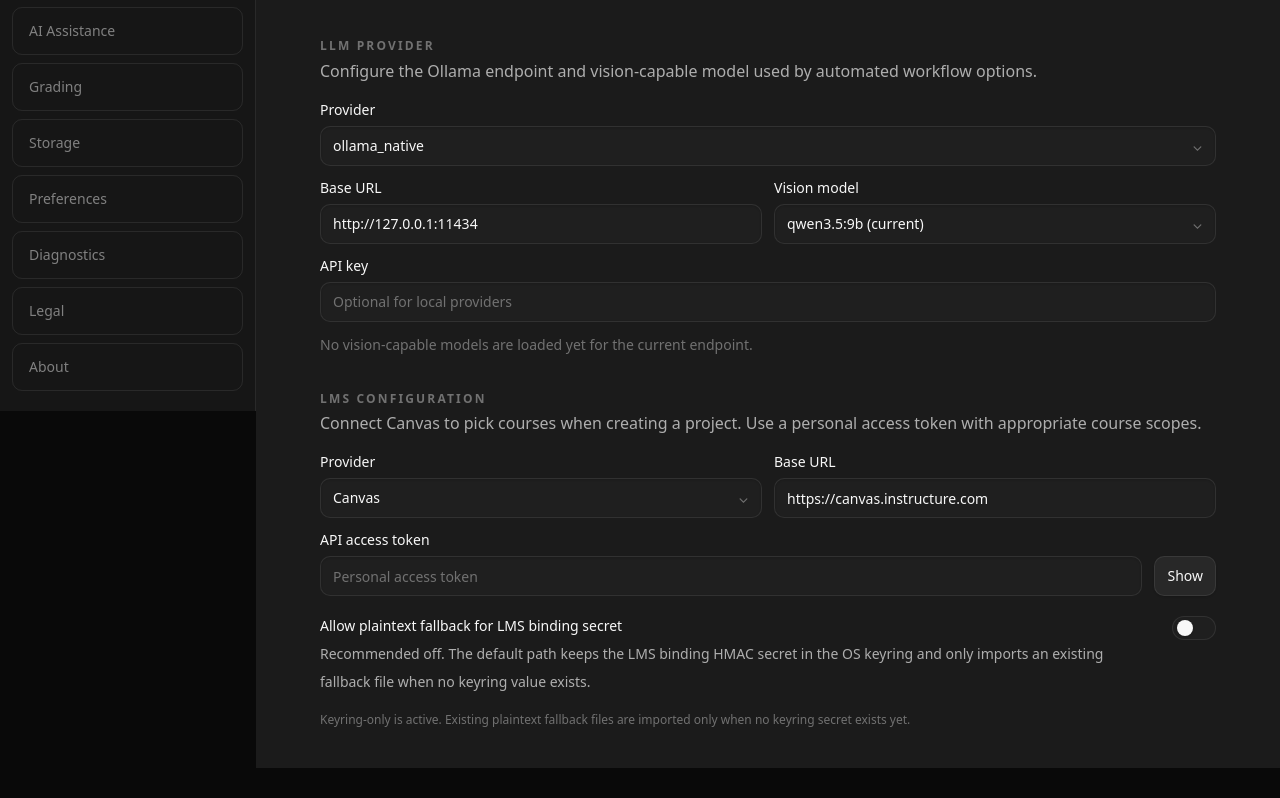
Test: SettingsWorkspace › shows a clear warning when plaintext LMS binding secret fallback is enabled
The image size is (1280, 798).
Expected: the text "Keyring-only is active. Existing plaintext fallback files are imported only when no keyring secret exists yet." is shown, [320,711,910,728]
Expected: the text "Plaintext fallback enabled" is not shown
Click the button "Allow plaintext fallback for LMS binding secret": point(768, 656) [320,616,1216,696]
(page scrolled)
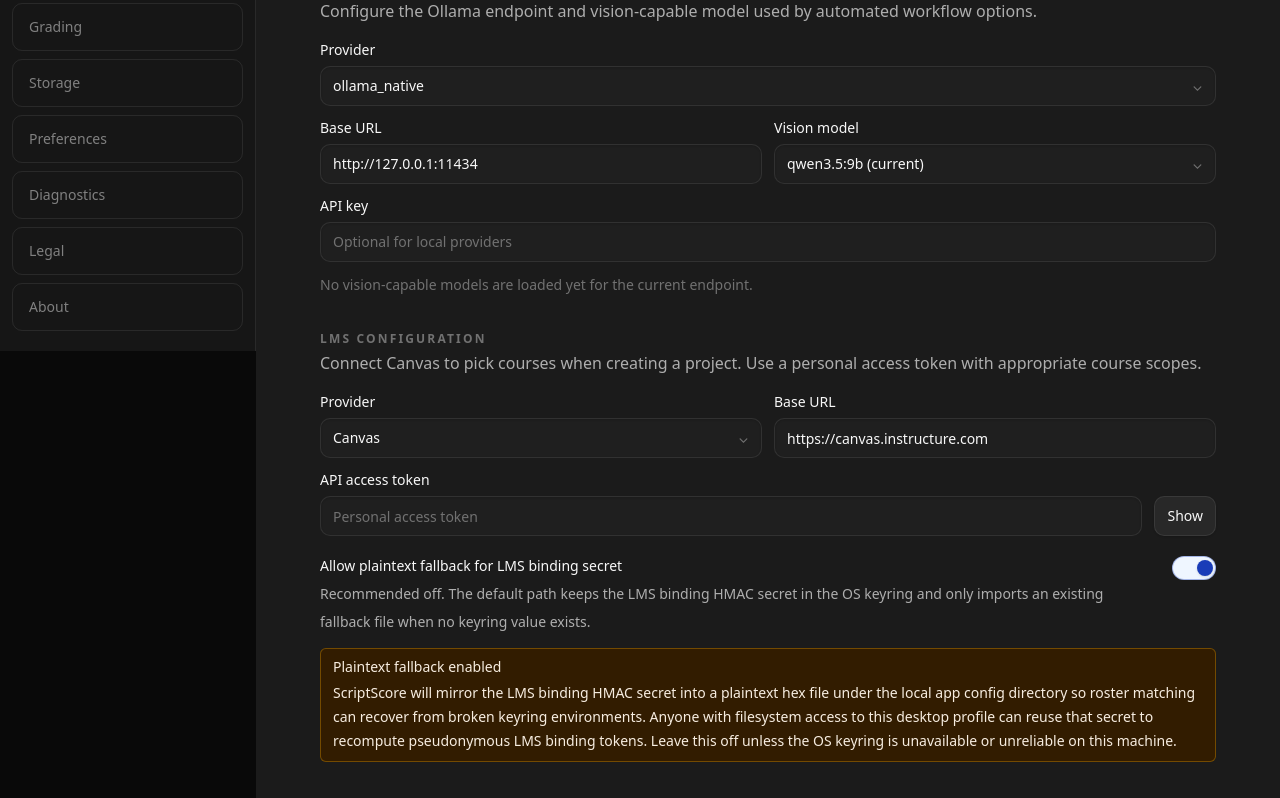
Result: the text "Plaintext fallback enabled" is shown at [333,657,501,676]
Result: the text "Anyone with filesystem access to this desktop profile can reuse that secret to recompute pseudonymous LMS binding tokens" is shown at [333,683,1195,750]
